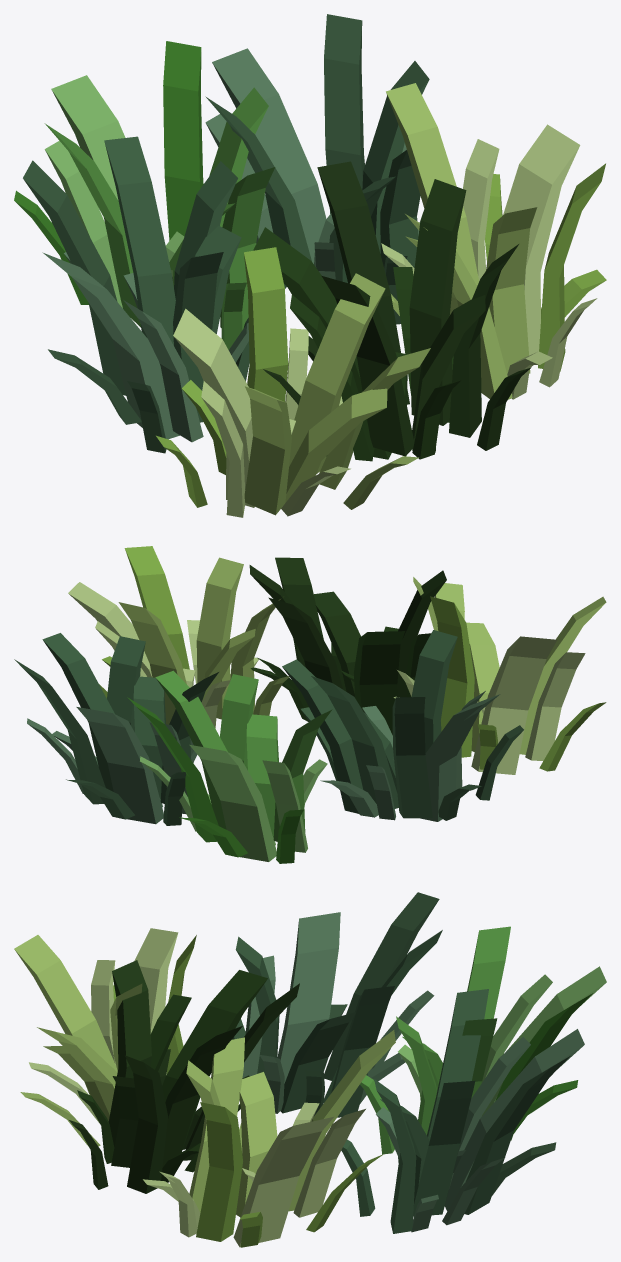
Rendered from GrassSet4.glb.
3 views of the same model, one above another, from view 1: azimuth 30°, elevation 25°; view 2: azimuth 150°, elevation 25°; view 3: azimuth 270°, elevation 25° (orthographic). The views are drawn at different scales.
Parts seen in each view (by area): view 1: Bust_4__1__1, Bust_3, Bust_7, Bust_4, Bust_7__1_, Bust_0; view 2: Bust_7, Bust_0, Bust_7__1_, Bust_4__1__1, Bust_4, Bust_3; view 3: Bust_4, Bust_7__1_, Bust_7, Bust_3, Bust_4__1__1, Bust_0.
Part boxes in pixels (x1,y1,x2,y2): Bust_4__1__1: (156,247,430,517); Bust_3: (253,161,531,461); Bust_7: (23,136,286,453); Bust_4: (381,83,606,399); Bust_7__1_: (205,14,429,324); Bust_0: (14,41,275,349); Bust_7: (282,630,523,821); Bust_0: (127,670,332,863); Bust_7__1_: (14,633,218,825); Bust_4__1__1: (393,577,606,774); Bust_4: (68,546,289,727); Bust_3: (249,557,446,735); Bust_4: (143,1030,395,1247); Bust_7__1_: (341,989,584,1233); Bust_7: (231,892,442,1117); Bust_3: (69,960,299,1193); Bust_4__1__1: (14,928,196,1146); Bust_0: (360,926,606,1154).
Size of the model in its own units: 0.5294 by 0.2289 by 0.6.
1 material, 1 textured.
